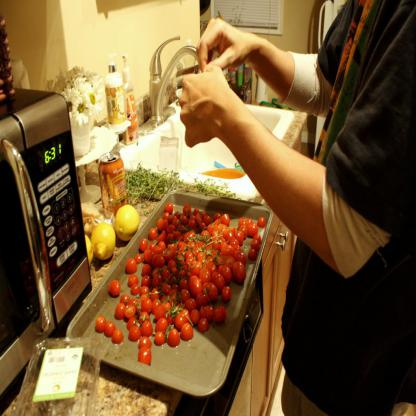Tomato: (108, 203, 262, 348), (110, 327, 124, 344), (138, 346, 152, 362), (105, 319, 114, 338), (140, 336, 151, 349), (97, 315, 105, 330), (257, 219, 266, 227)
